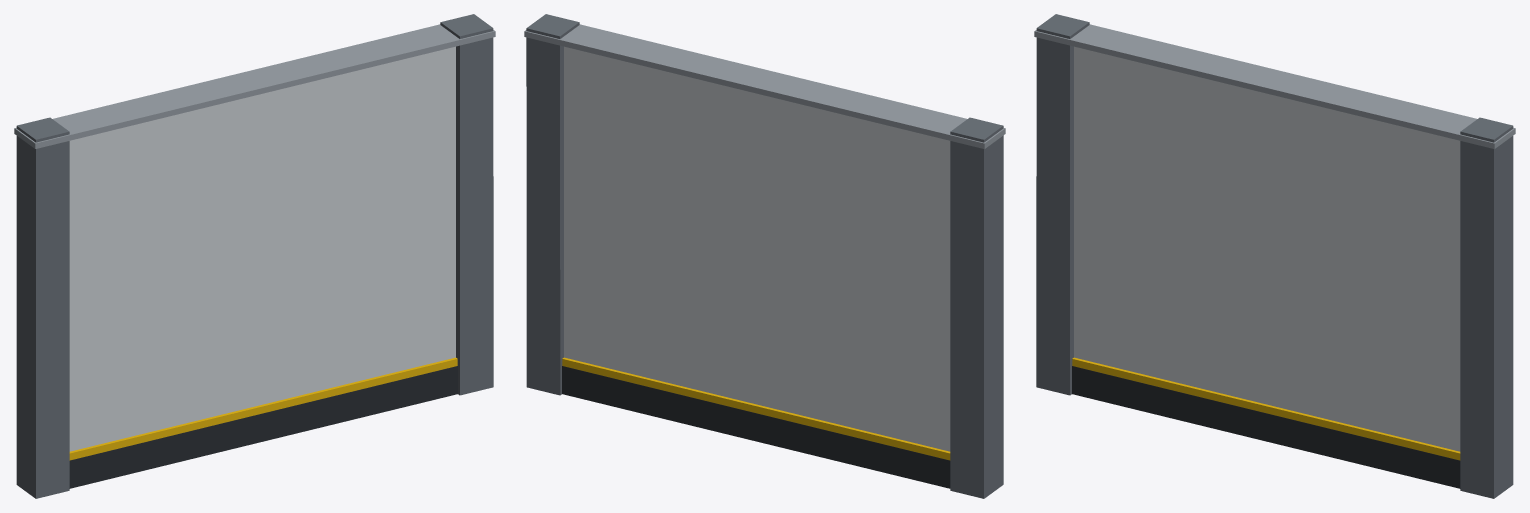
The model's file is wall.obj.
3 renders of one model, left to right at view 1: azimuth 30°, elevation 25°; view 2: azimuth 150°, elevation 25°; view 3: azimuth 330°, elevation 25°, orthographic.
Visible parts, largest first — view 1: Warehouse_Wall; view 2: Warehouse_Wall; view 3: Warehouse_Wall.
Part boxes in pixels (x1=…): Warehouse_Wall: x1=14, y1=14, x2=495, y2=498; Warehouse_Wall: x1=524, y1=14, x2=1005, y2=498; Warehouse_Wall: x1=1034, y1=14, x2=1515, y2=498.
Size of the model in its own units: 3.42 by 2.55 by 0.27.
